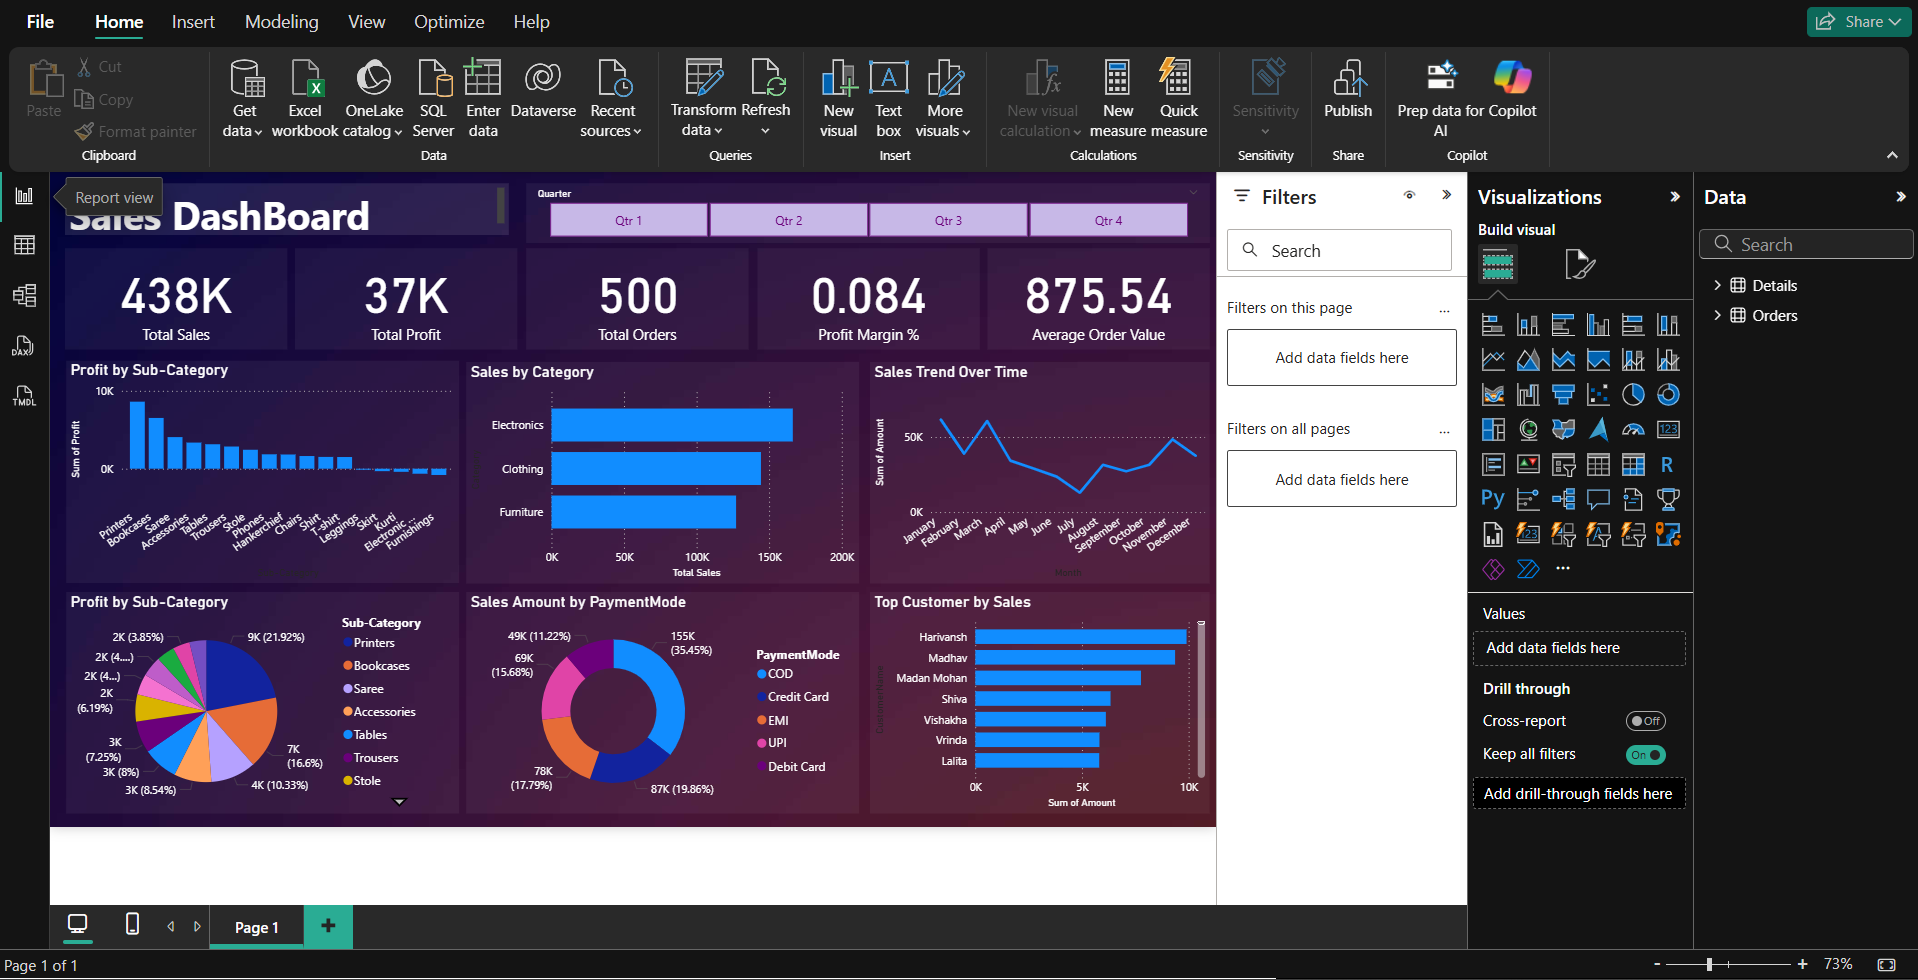

The page's visual inventory and layout, read from the dashboard file:
{"tool":"powerbi","page":{"name":"Page 1","canvas":[1280,720],"ordinal":0},"visuals":[{"type":"columnChart","title":"Profit by Sub-Category","fields":{"Category":["Details.Sub-Category"],"Y":["Sum(Details.Profit)"]},"box":[17.8,207.2,430.9,244.3],"z":0},{"type":"textbox","box":[17.1,12.9,487.1,57.1],"z":1000},{"type":"barChart","title":"Sales by Category","fields":{"Category":["Details.Category"],"Y":["Details.Total Sales"]},"box":[457.1,208.6,431.4,242.9],"z":2000},{"type":"pieChart","title":"Profit by Sub-Category","fields":{"Y":["Sum(Details.Profit)"],"Category":["Details.Sub-Category"]},"box":[17.8,461.1,430.9,242.9],"z":3000},{"type":"card","fields":{"Values":["Details.Total Sales"]},"box":[16.5,83.7,244.3,111.1],"z":4000},{"type":"card","fields":{"Values":["Details.Total Profit"]},"box":[269,83.7,244.3,111.1],"z":5000},{"type":"card","fields":{"Values":["Details.Total Orders"]},"box":[522.8,83.7,244.3,111.1],"z":6000},{"type":"card","fields":{"Values":["Details.Profit Margin %"]},"box":[776.7,83.7,244.3,111.1],"z":7000},{"type":"card","fields":{"Values":["Details.Average Order Value"]},"box":[1029.2,83.7,244.3,111.1],"z":8000},{"type":"donutChart","title":"Sales Amount by PaymentMode","fields":{"Category":["Details.PaymentMode"],"Y":["Sum(Details.Amount)"]},"box":[457.1,461.4,431.4,242.9],"z":9000},{"type":"lineChart","title":"Sales Trend Over Time","fields":{"Category":["Orders.Order Date.Variation.Date Hierarchy.Month"],"Y":["Sum(Details.Amount)"]},"box":[900,208.6,372.9,242.9],"z":10000},{"type":"clusteredBarChart","title":"Top Customer by Sales","fields":{"Category":["Orders.CustomerName"],"Y":["Sum(Details.Amount)"]},"box":[900,461,373,243],"z":11000},{"type":"slicer","fields":{"Values":["Orders.Order Date.Variation.Date Hierarchy.Quarter"]},"box":[522.9,12.9,750,65.7],"z":12000}]}

Visuals, with their boxes on the page's 1280x720 design canvas (x1, y1, x2, y2). These are canvas units, not pixel positions in the 1918x980 screenshot, which may show the page scaled, cropped or inside an application window:
"Profit by Sub-Category" columnChart: rect(18, 207, 449, 452)
textbox: rect(17, 13, 504, 70)
"Sales by Category" barChart: rect(457, 209, 888, 452)
"Profit by Sub-Category" pieChart: rect(18, 461, 449, 704)
card - Details.Total Sales: rect(16, 84, 261, 195)
card - Details.Total Profit: rect(269, 84, 513, 195)
card - Details.Total Orders: rect(523, 84, 767, 195)
card - Details.Profit Margin %: rect(777, 84, 1021, 195)
card - Details.Average Order Value: rect(1029, 84, 1274, 195)
"Sales Amount by PaymentMode" donutChart: rect(457, 461, 888, 704)
"Sales Trend Over Time" lineChart: rect(900, 209, 1273, 452)
"Top Customer by Sales" clusteredBarChart: rect(900, 461, 1273, 704)
slicer - Orders.Order Date.Variation.Date Hierarchy.Quarter: rect(523, 13, 1273, 79)
